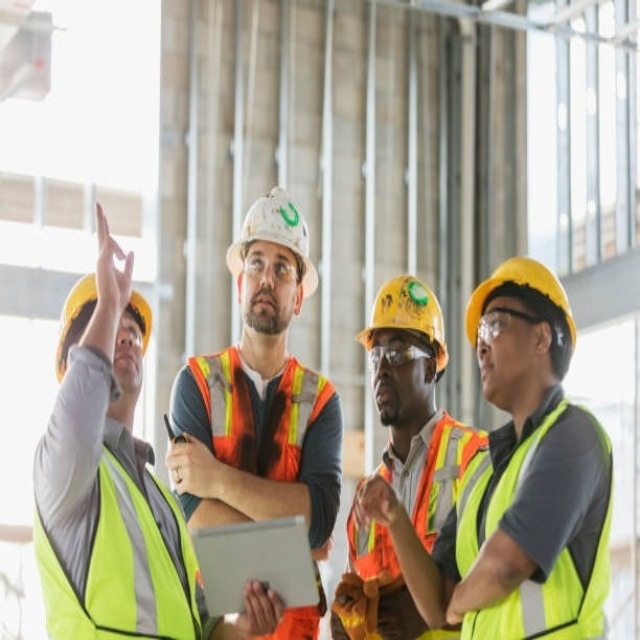Gafas: (475, 309, 545, 339), (243, 253, 300, 285), (366, 344, 431, 364), (116, 317, 144, 353)
Sin_guantes: (164, 420, 223, 500), (90, 196, 133, 301), (349, 471, 403, 535), (237, 582, 292, 631)
Sin_mascara: (475, 356, 503, 395), (114, 351, 143, 386), (248, 292, 277, 326), (373, 380, 396, 417)
